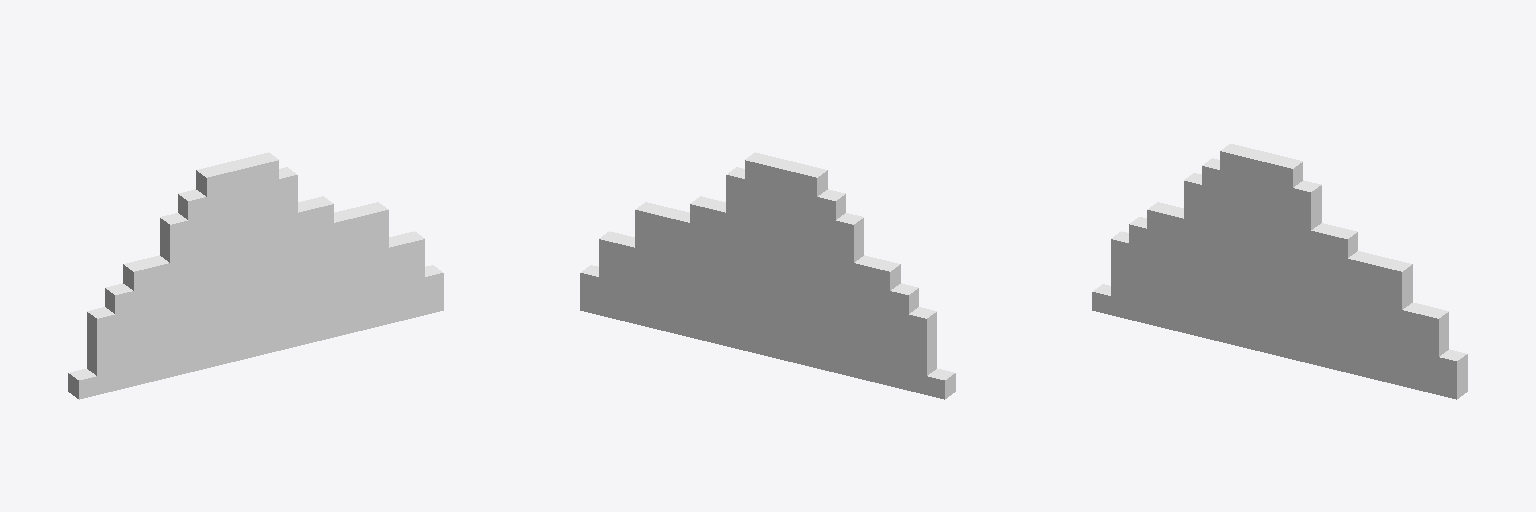
File: cloud.obj
The picture shows the model from 3 angles: view 1: azimuth 30°, elevation 25°; view 2: azimuth 150°, elevation 25°; view 3: azimuth 330°, elevation 25°; orthographic projection.
Size of the model in its own units: 20 by 10 by 1.